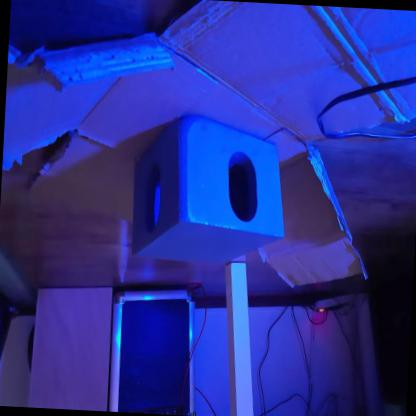CornerCasting: (127, 104, 286, 272)
